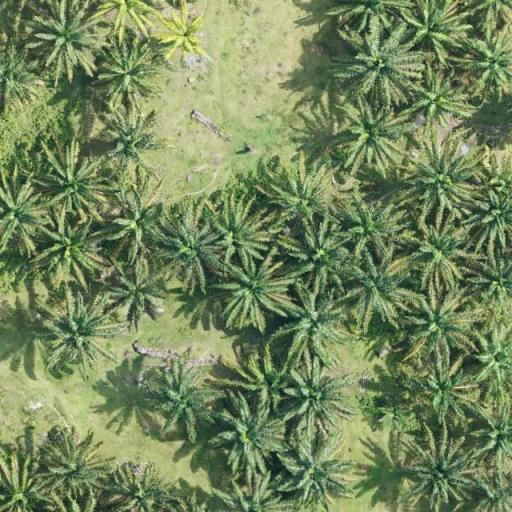Ganoderma: (410, 74, 458, 122), (165, 17, 204, 57)
